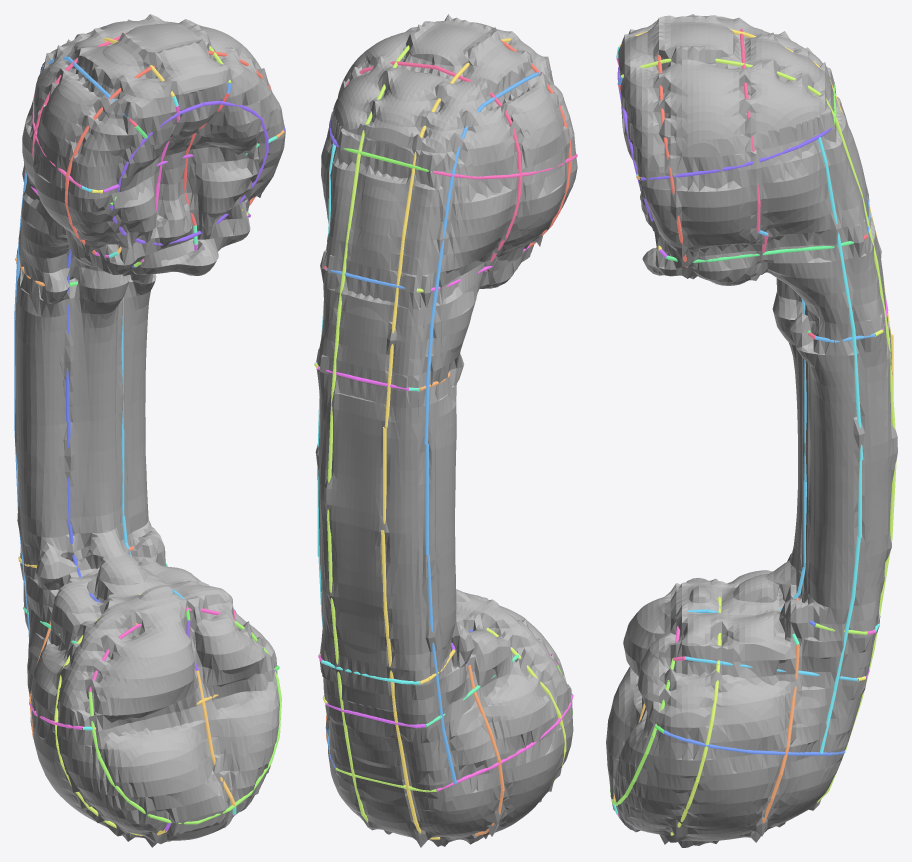
Rendered from flowrep_phone.gltf.
The picture shows the model from 3 angles, left to right: view 1: azimuth 30°, elevation 25°; view 2: azimuth 150°, elevation 25°; view 3: azimuth 270°, elevation 25°; orthographic projection.
Bounding box in the file's own units: 0.273 × 0.9422 × 0.3093.
